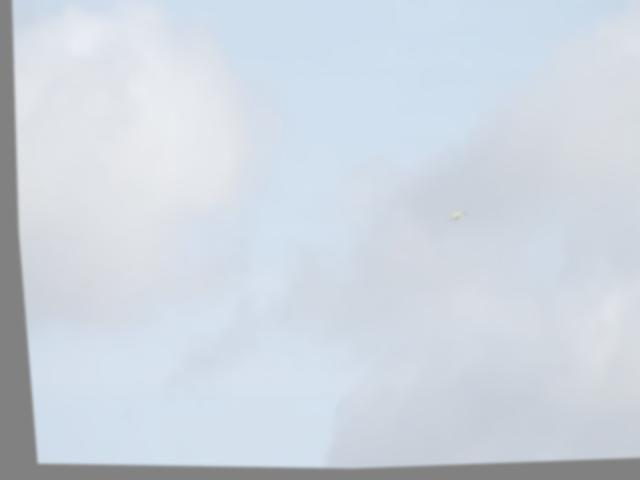plane: (446, 213, 464, 228)
